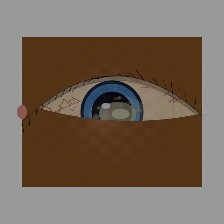corneal_ulcer: (87, 90, 148, 138)
